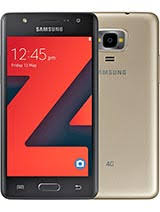samsung: (1, 10, 99, 203), (97, 10, 159, 203)
